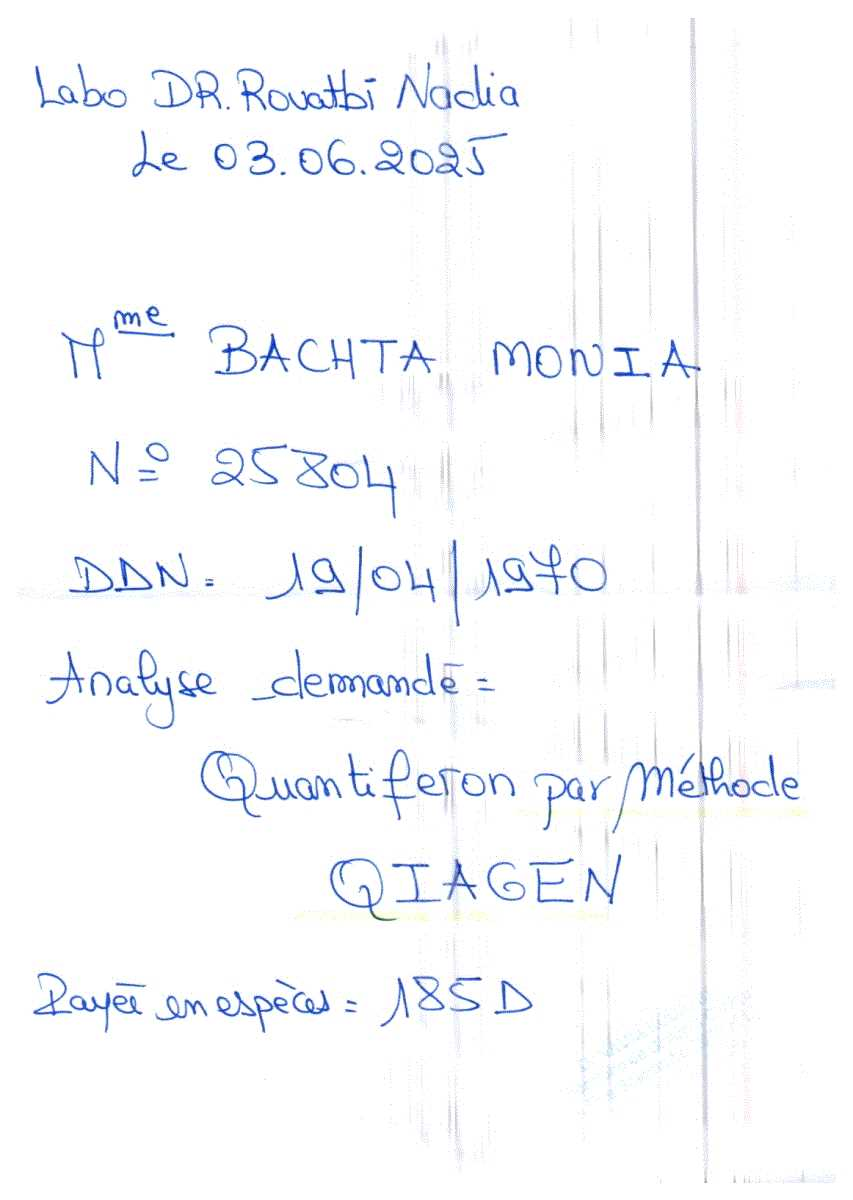zone_analyses: (19, 439, 853, 1083)
zone_date: (209, 131, 537, 196)
zone_patient: (33, 271, 719, 418)
zone_prescripteur: (146, 66, 535, 119)
